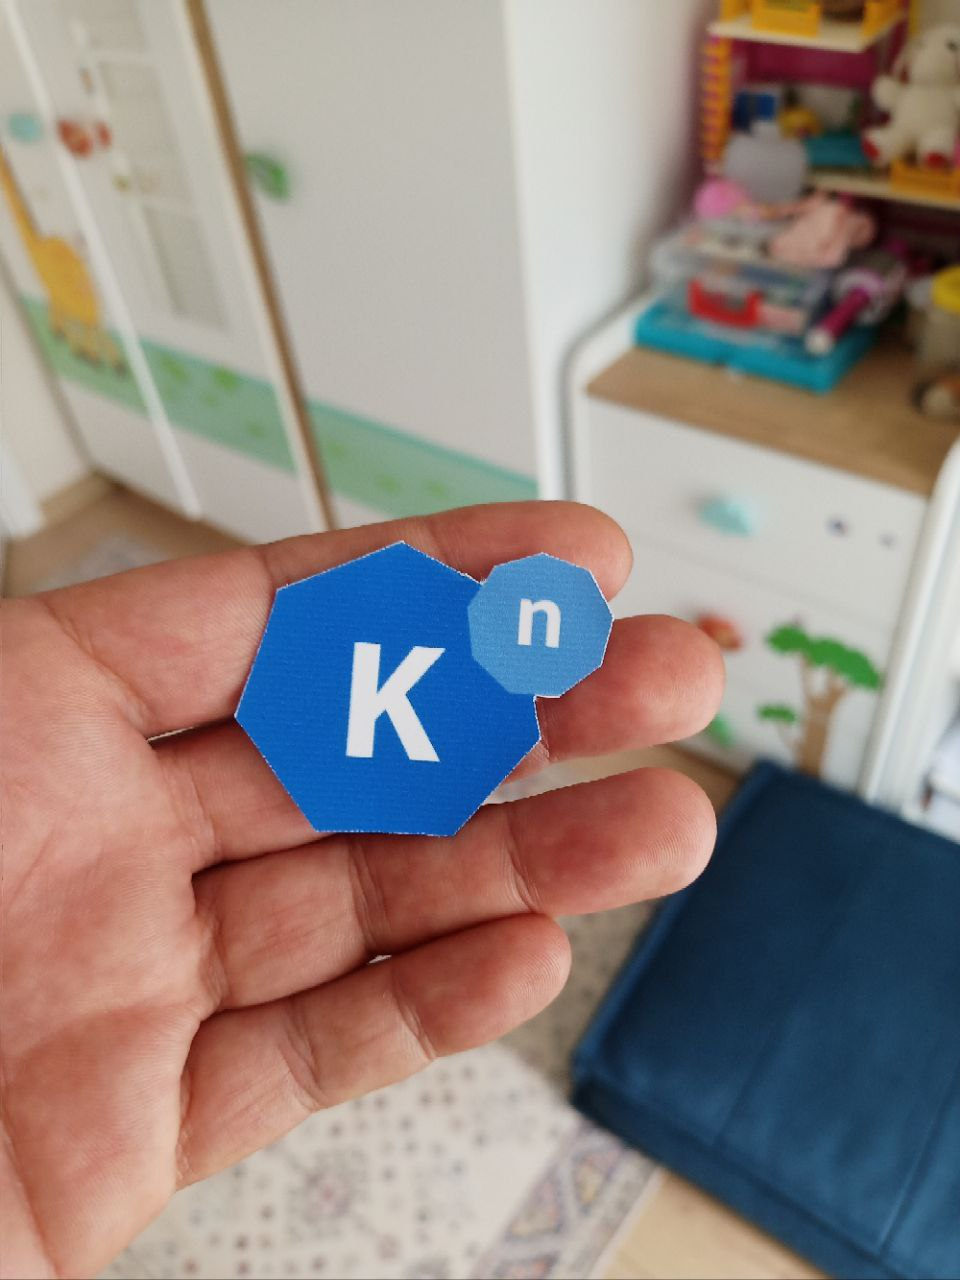knative: (235, 542, 613, 840)
